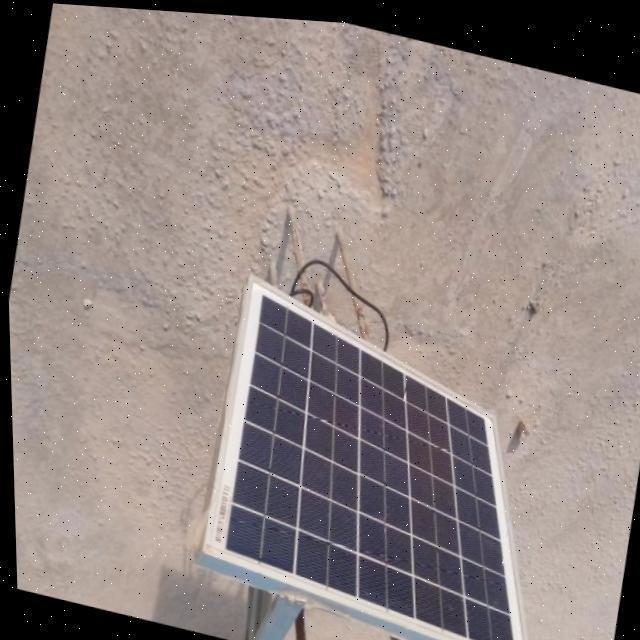Normal Solar Panel: (187, 265, 581, 640)
